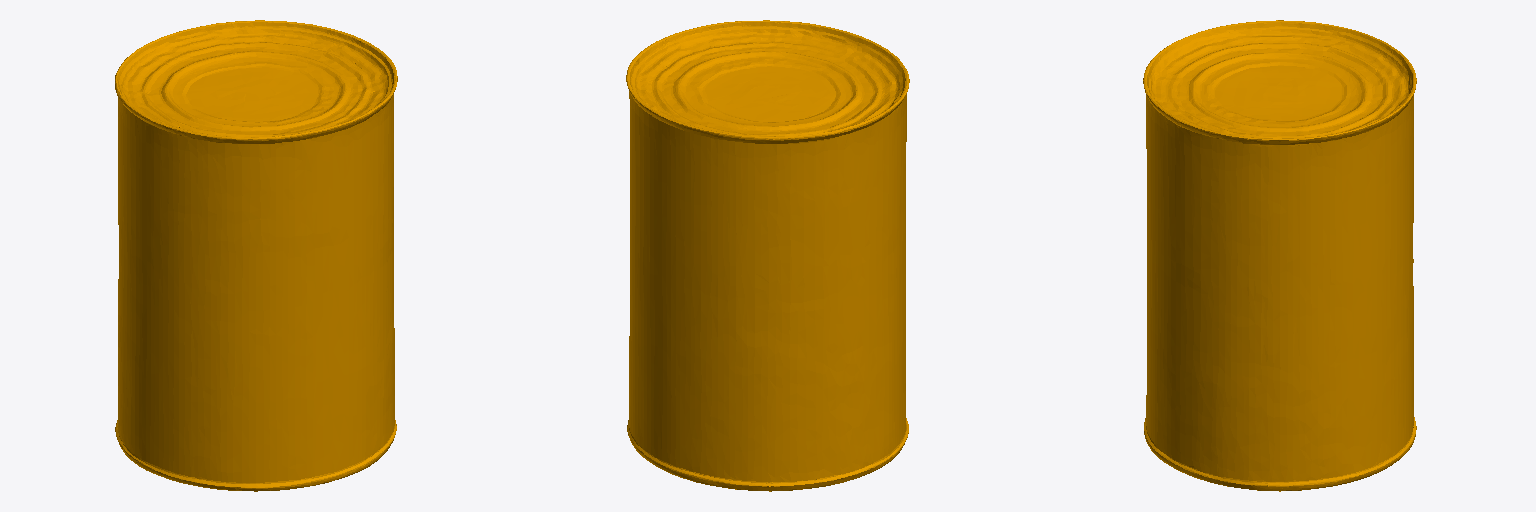
The robot description file, URDF, robot "sample":
<?xml version="1.0" ?>
<robot name="sample">
   <link name="sample">
      <visual>
         <origin xyz="0 0 0" rpy="1.5708 0.0 0.0"/>
         <geometry>
            <mesh filename="mesh/sample.obj" scale="1.0 1.0 1.0"/>
         </geometry>
      </visual>
      <collision>
         <origin xyz="0 0 0" rpy="1.5708 0.0 0.0"/>
         <geometry>
            <mesh filename="mesh/sample_collision.obj" scale="1.0 1.0 1.0"/>
         </geometry>
         <gazebo>
            <mu1>0.60</mu1>
            <mu2>0.50</mu2>
         </gazebo>
      </collision>
      <inertial>
         <mass value="0.4000"/>
         <origin xyz="0 0 0"/>
         <inertia ixx="1.0" ixy="0.0" ixz="0.0" iyy="1.0" iyz="0.0" izz="1.0"/>
      </inertial>
      <extra_info>
         <scale>0.135000</scale>
         <version>v0.1.7</version>
         <category>canned food</category>
         <description>green cylindrical can with corn imagery</description>
         <min_height>0.12</min_height>
         <max_height>0.15</max_height>
         <real_height>0.135</real_height>
         <min_mass>0.3</min_mass>
         <max_mass>0.5</max_mass>
         <color>green</color>
         <rgba>[0.0, 0.7, 0.0, 1.0]</rgba>
         <generate_time>20260616093712</generate_time>
         <gs_model>mesh/sample_gs.ply</gs_model>
      </extra_info>
   </link>
   <custom_data>
      <quality>
         <MeshGeoChecker>YES</MeshGeoChecker>
         <ImageSegChecker>NO, object is not centered and appears truncated with background artifacts.</ImageSegChecker>
         <ImageAestheticChecker>4.5212355852127075</ImageAestheticChecker>
         <overall>NO</overall>
      </quality>
   </custom_data>
</robot>

--- What the picture shows (computed from the rendered views, not written in the file) ---
The picture shows the robot from 3 angles, left to right: view 1: azimuth 30°, elevation 25°; view 2: azimuth 150°, elevation 25°; view 3: azimuth 270°, elevation 25°; orthographic projection.
Robot: sample — 1 links, 0 joints (none); root link sample; default pose: every joint at zero.
Visible links, largest first — view 1: sample; view 2: sample; view 3: sample.
Boxes of the visible links, box(x1,y1,x2,y2) form: sample: box(115, 20, 397, 491); sample: box(626, 20, 909, 491); sample: box(1143, 20, 1416, 491).
Size in the robot's own frame: 0.0982 by 0.0946 by 0.135 metres.
1 mesh visuals loaded from 1 distinct referenced files (1 OBJ).
